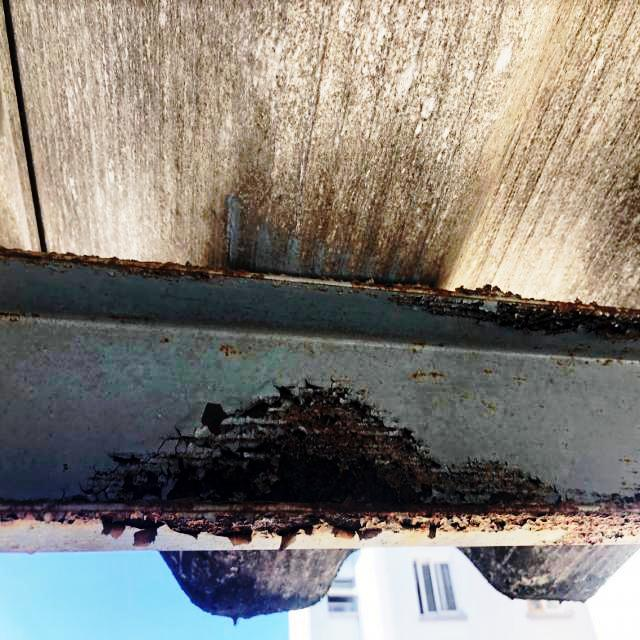Corrosion: (0, 378, 640, 551), (0, 249, 640, 342)
